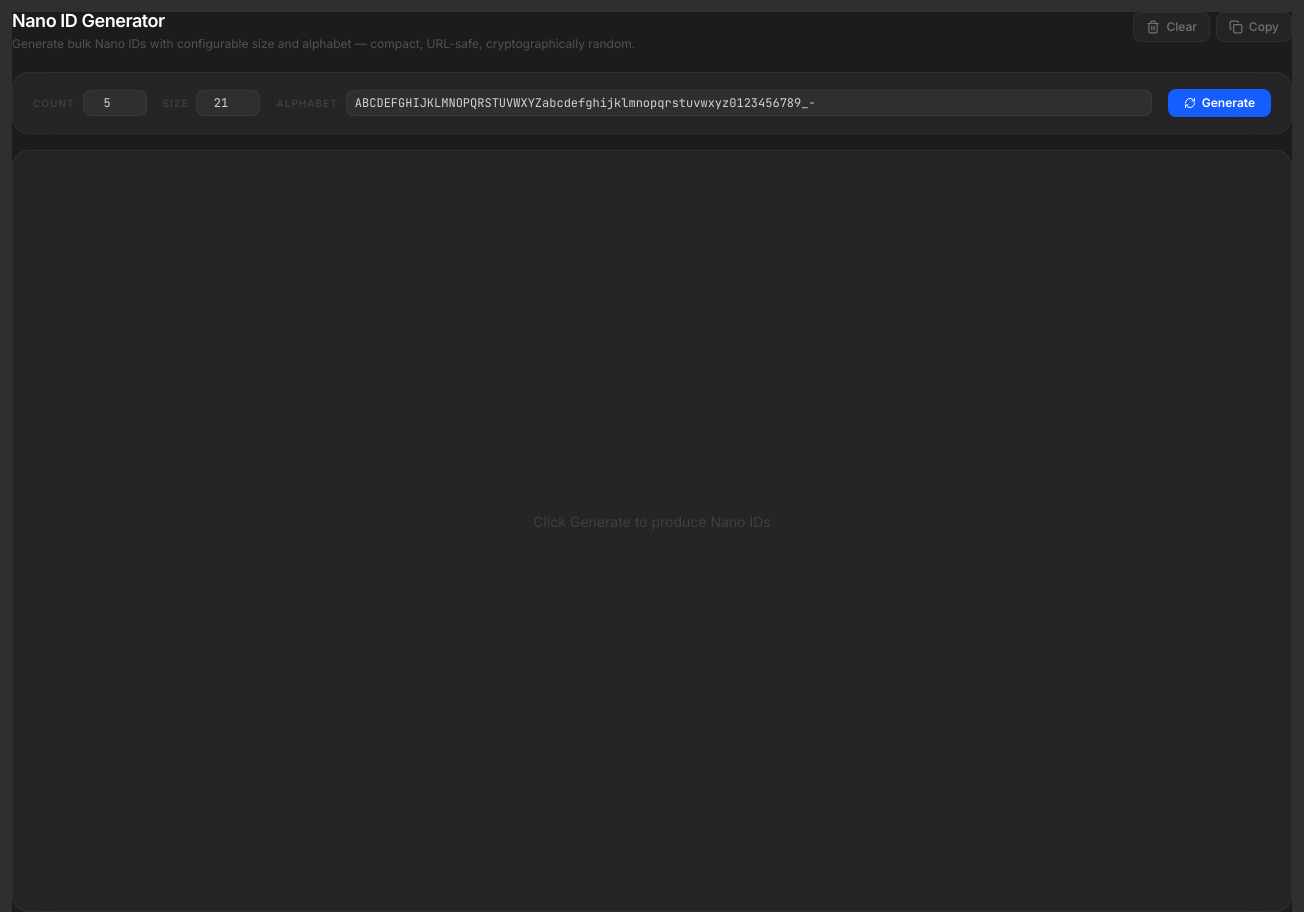
Test: NanoIdGenerator › respects the quantity input
Replace the text in the number field showing "5" next to "Count" with "3". click: point(115, 103)
box: [83,90,147,116]
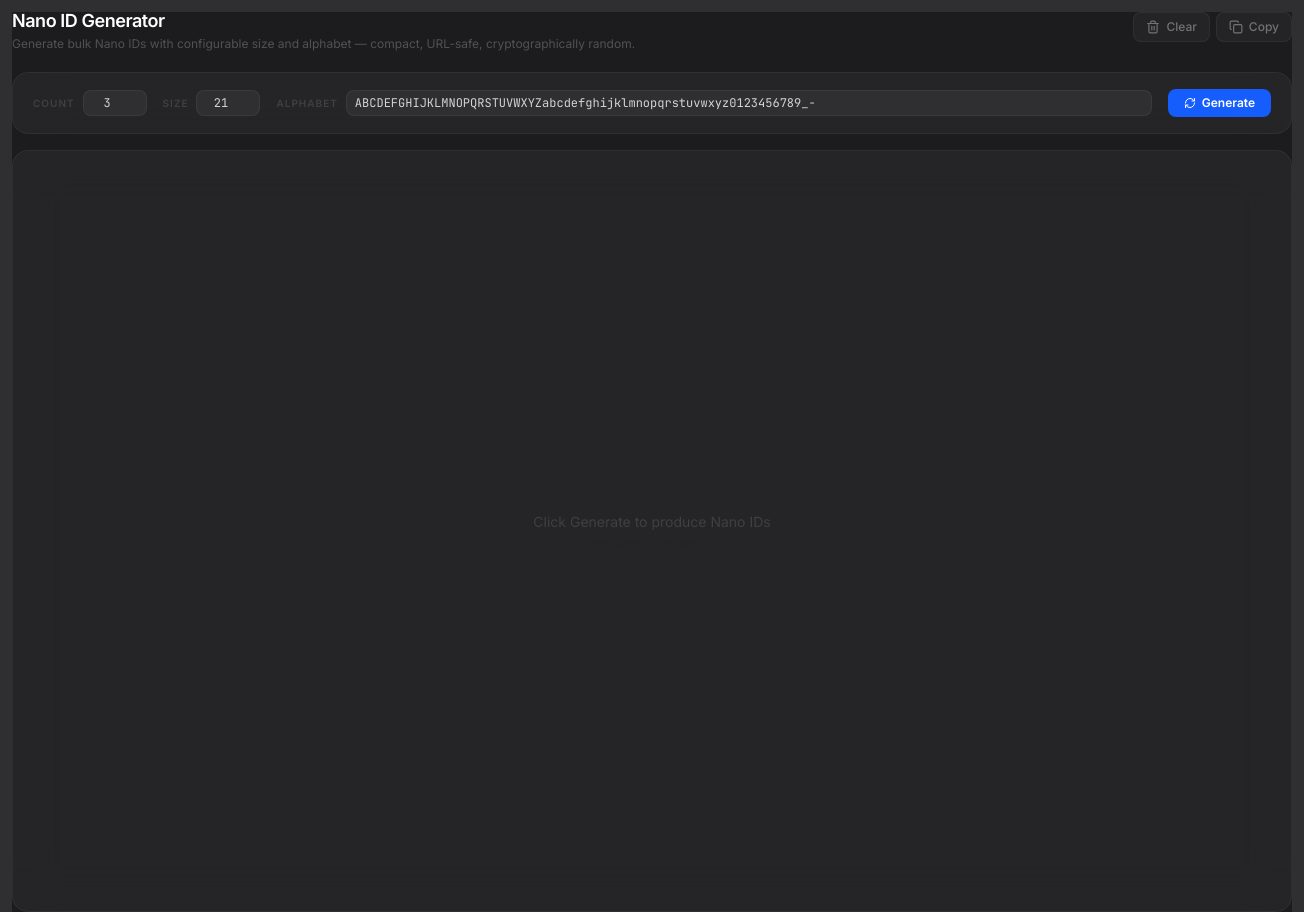
Click the button "Generate". click: point(1219, 103)
box: [1168,89,1271,117]
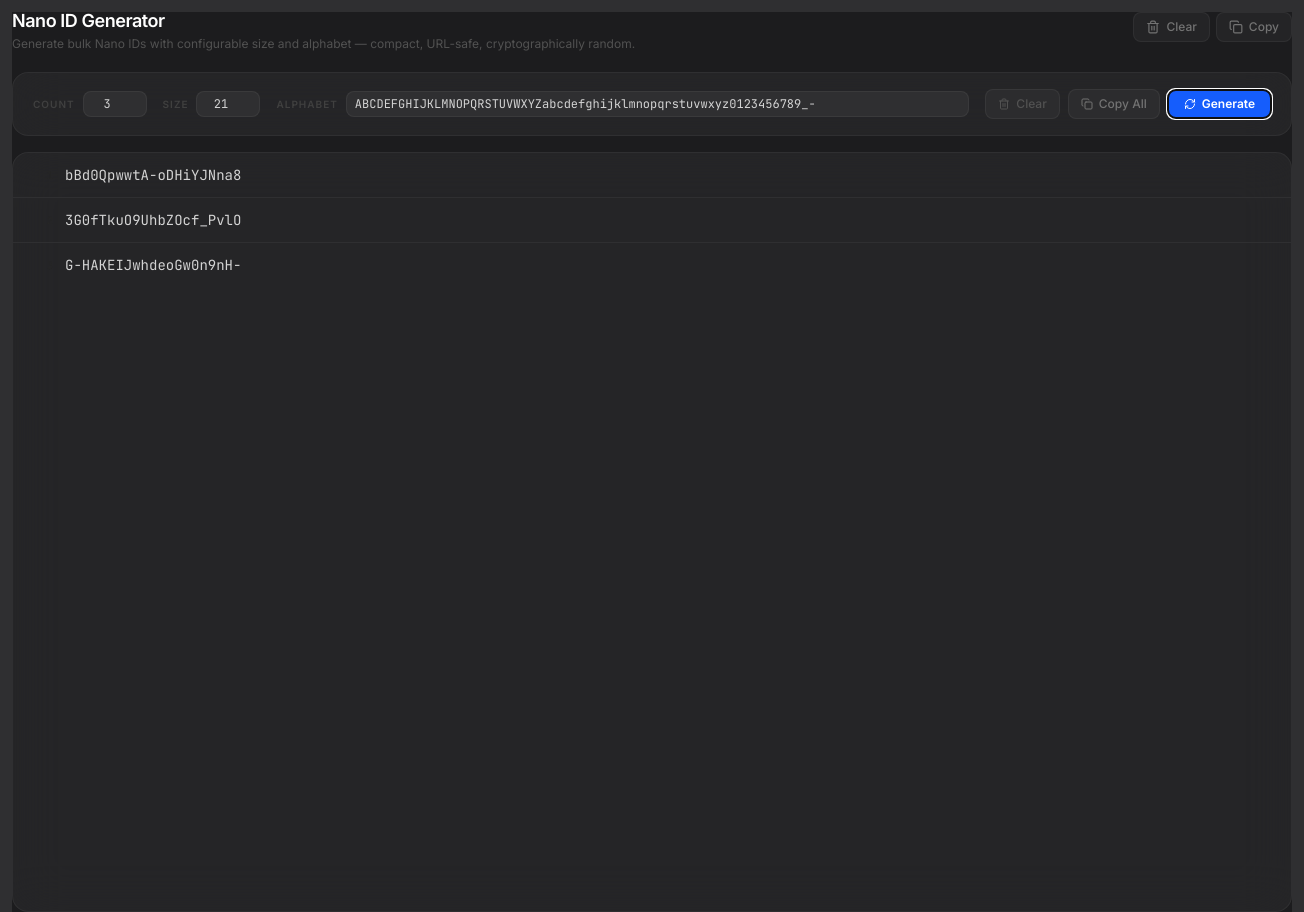
Result: the number of list items is 3 at [13,153,1291,198]; [13,198,1291,243]; [47,256,241,274]
